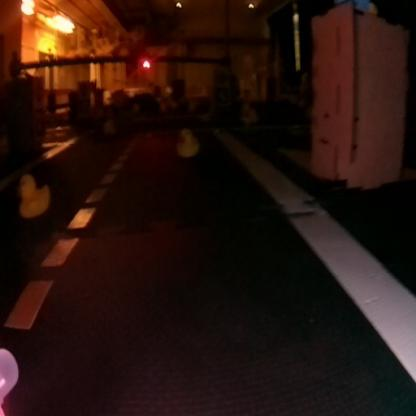duckie: (7, 162, 47, 216), (164, 120, 212, 165)
